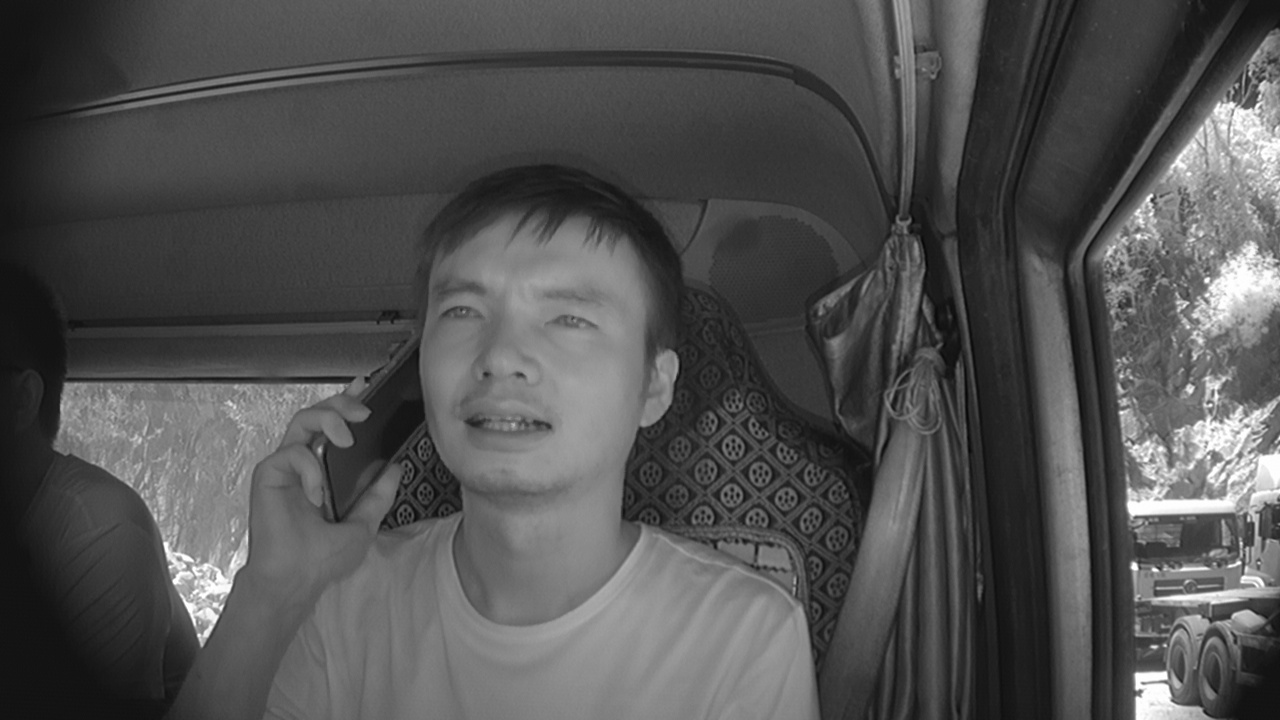hand: (257, 374, 402, 578)
